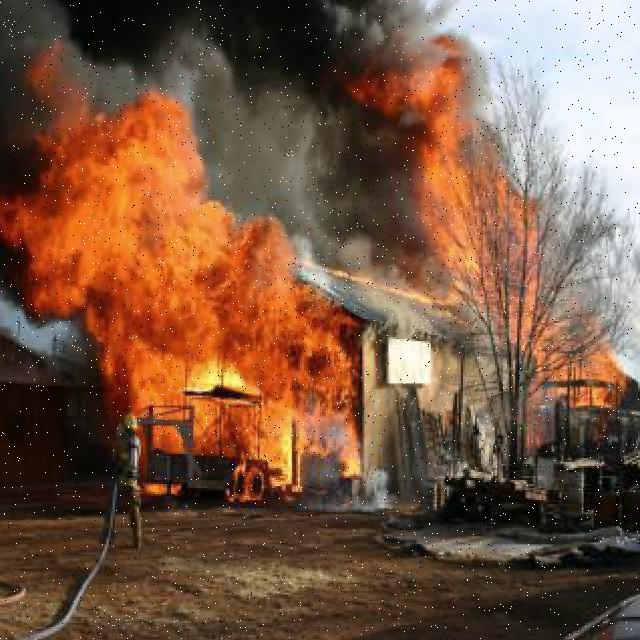fire: (97, 220, 358, 456), (0, 87, 208, 222), (421, 126, 537, 315), (0, 218, 95, 337), (531, 321, 622, 410), (356, 61, 475, 126), (344, 275, 421, 307), (221, 456, 268, 504)
smoke: (208, 0, 359, 216), (296, 130, 418, 266), (294, 460, 390, 520), (364, 299, 435, 339)
